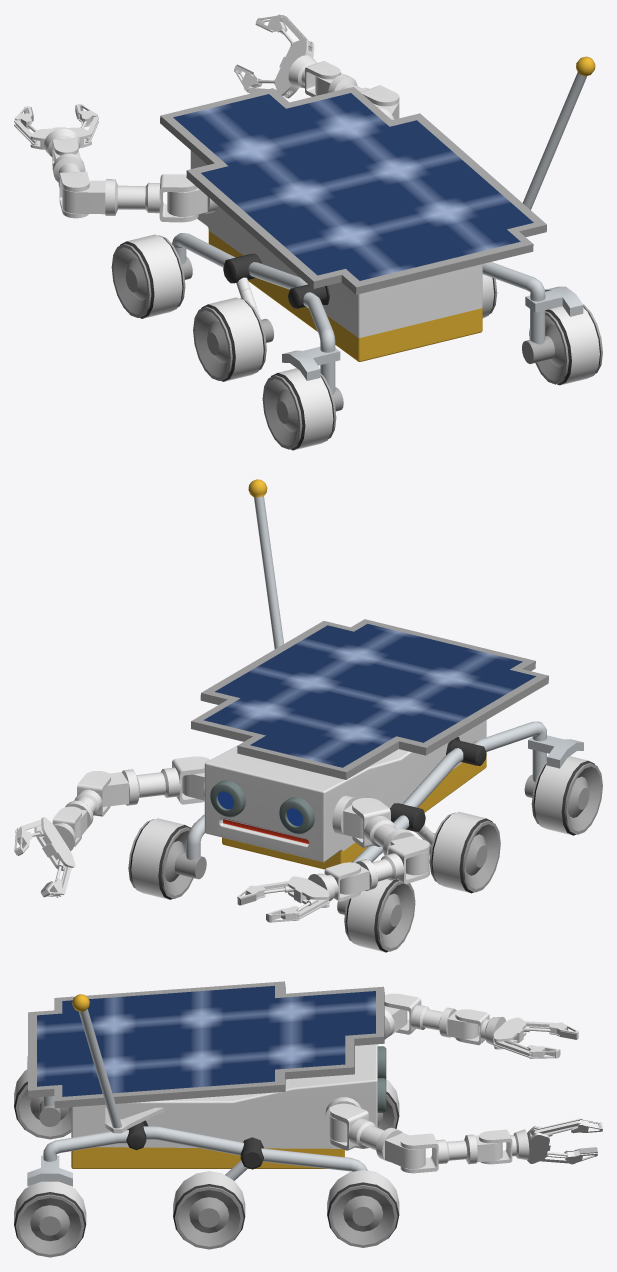
File: Widget_Static.fbx
3 renders of one model, top to bottom at view 1: azimuth 30°, elevation 25°; view 2: azimuth 150°, elevation 25°; view 3: azimuth 270°, elevation 25°, orthographic. The views are drawn at different scales.
Visible parts, largest first — view 1: Widget; view 2: Widget; view 3: Widget.
Part boxes in pixels (left/top/right/bottom): Widget: left=14, top=14, right=602, bottom=450; Widget: left=14, top=479, right=602, bottom=952; Widget: left=14, top=981, right=602, bottom=1257.
Bounding box in the file's own units: 38.24 × 30.72 × 60.19.
